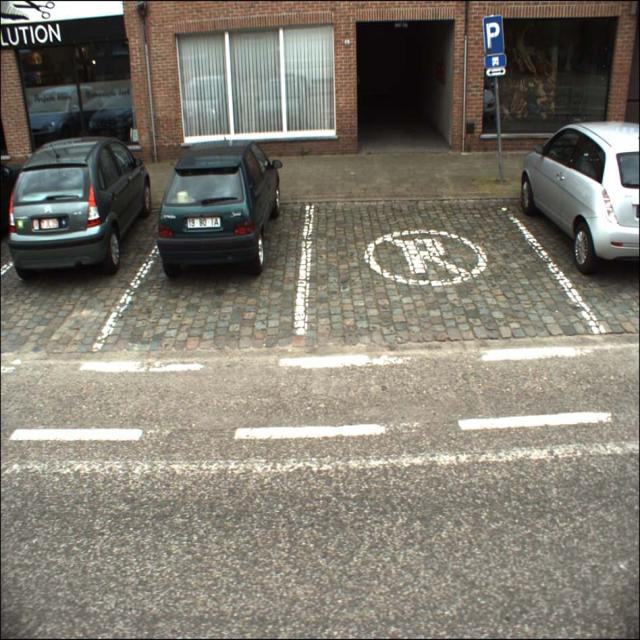park: (483, 15, 504, 54)
